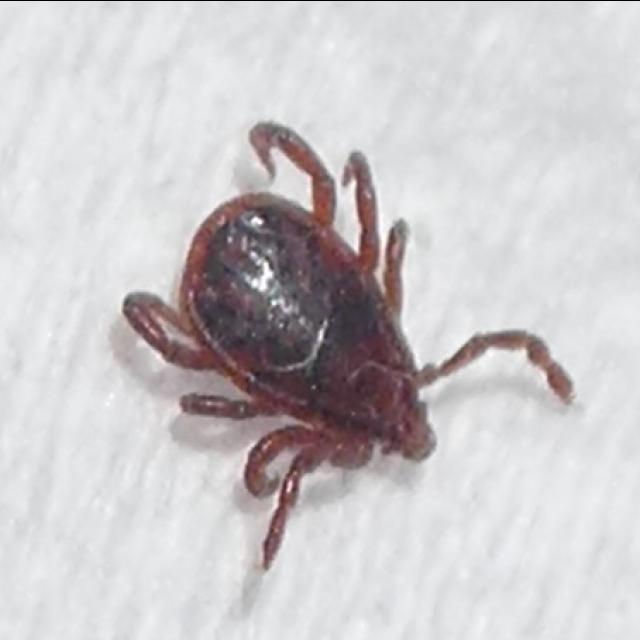Rhipicephalus Sanguineus-M: (120, 120, 575, 572)
